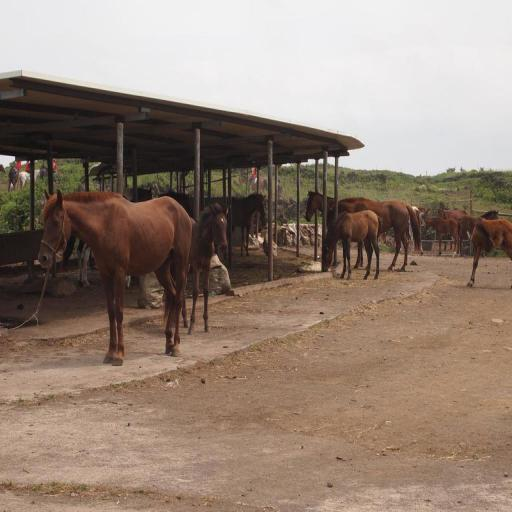Horse: (36, 190, 192, 368), (304, 190, 512, 288), (153, 204, 229, 337), (205, 191, 269, 256)
